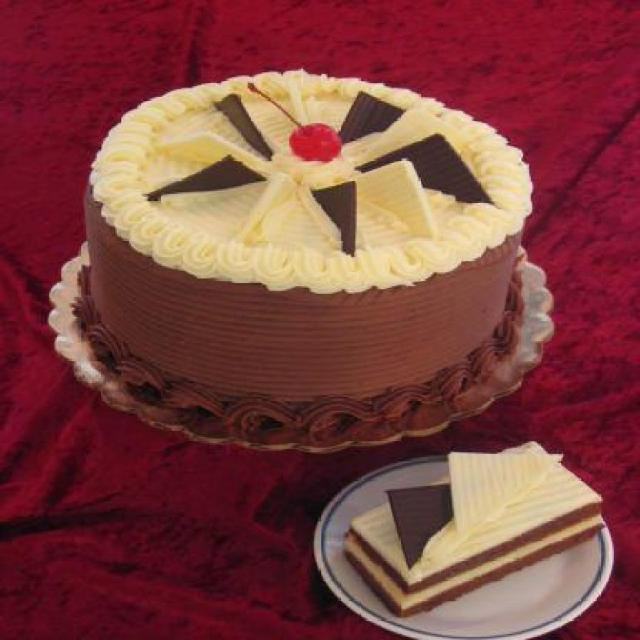Cake: (70, 69, 533, 451), (340, 440, 606, 620)
